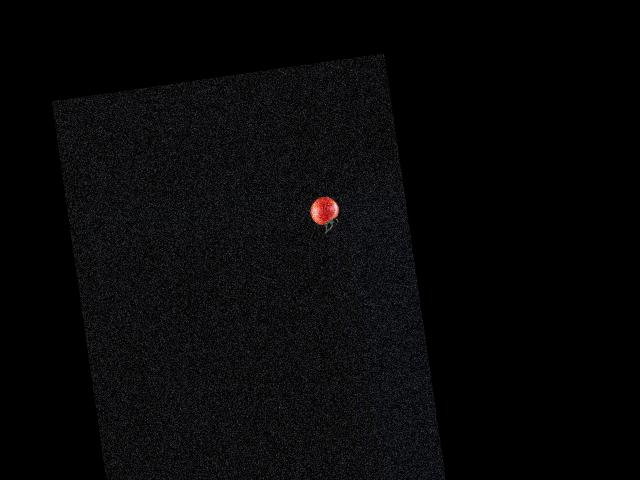tomato: (308, 195, 340, 226)
